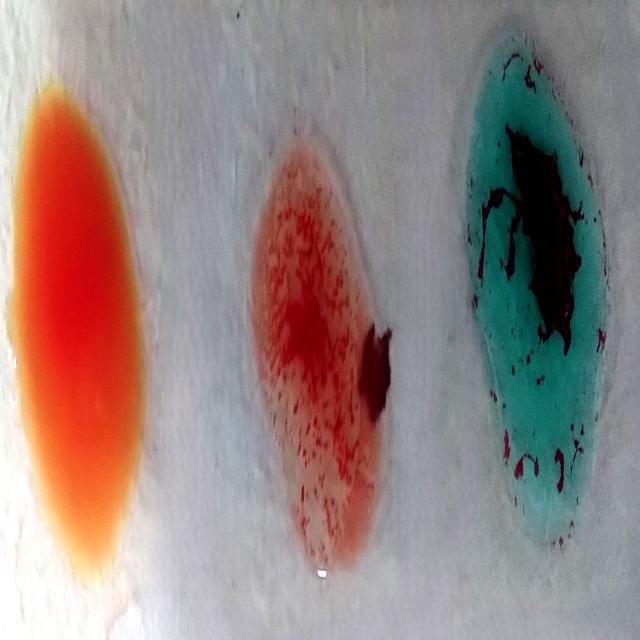A: (466, 46, 610, 554)
D: (248, 129, 389, 587)
